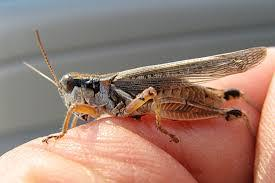insect: (18, 24, 270, 148)
